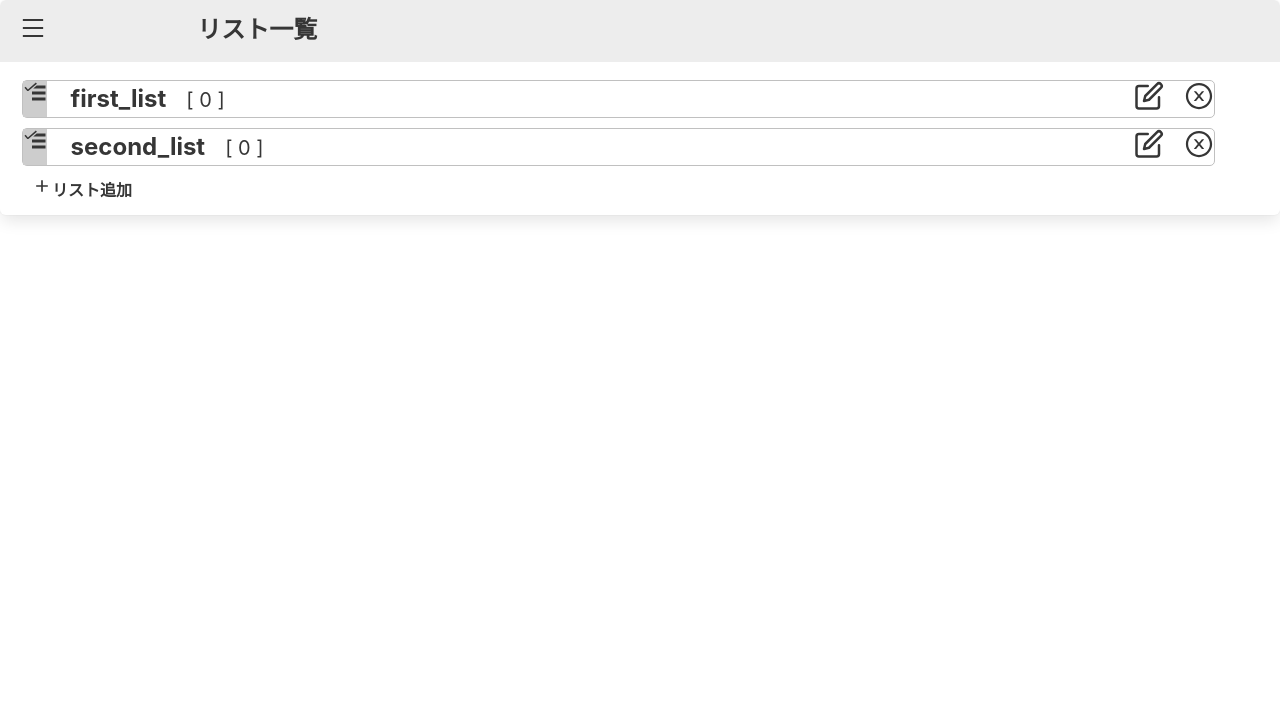
リスト追加処理のテスト › リスト追加処理実行のテスト
This screenshot has width=1280, height=720.
Click the text "リスト追加".
click(92, 190)  # box [52,180,132,200]
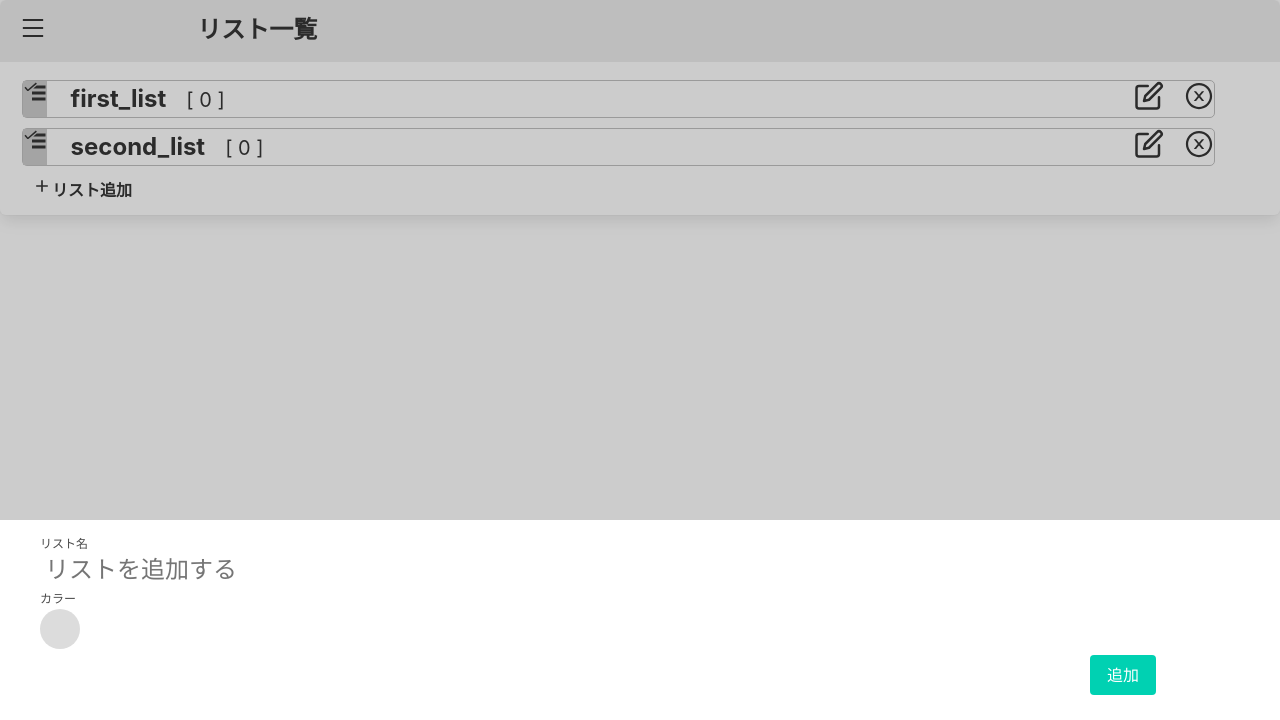
Result: the text "リスト名" is shown at [40,536,88,551]
Type "new_list" into the field labelled "リスト名".
click(536, 570); type("new_list")  # box [40,554,1032,585]
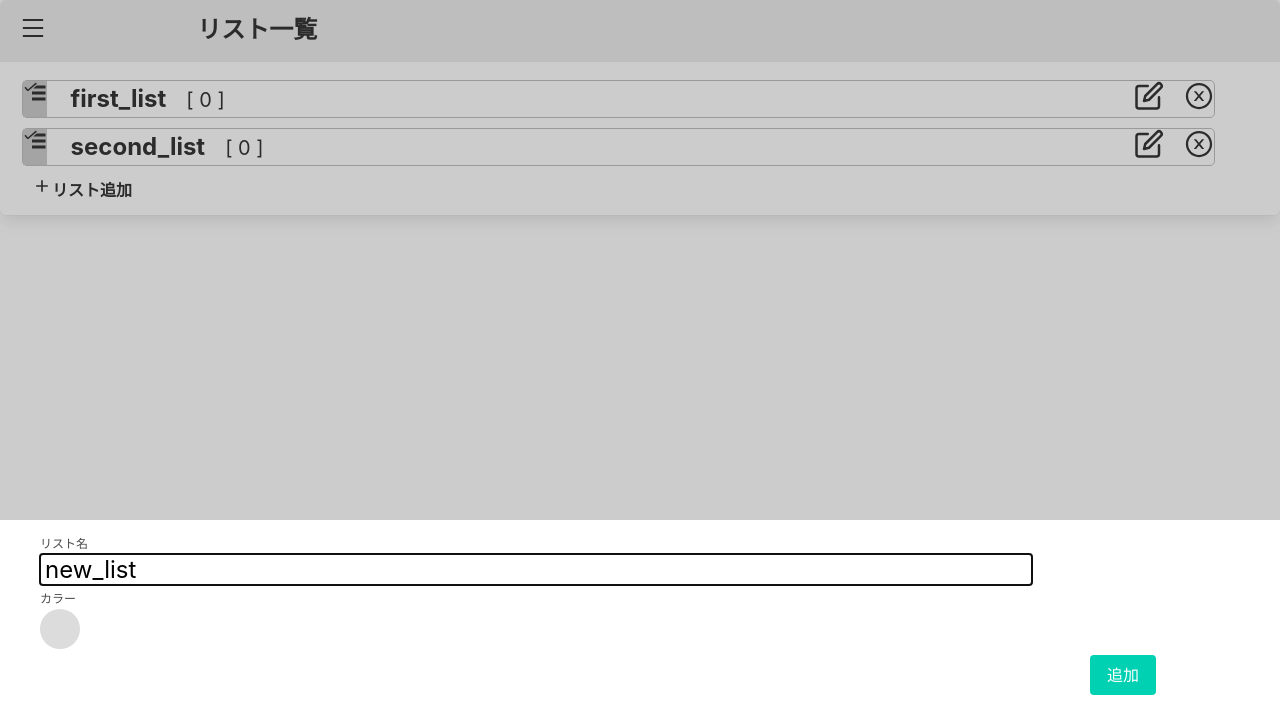
Click the button "追加".
click(1123, 675)  # box [1090,655,1156,695]
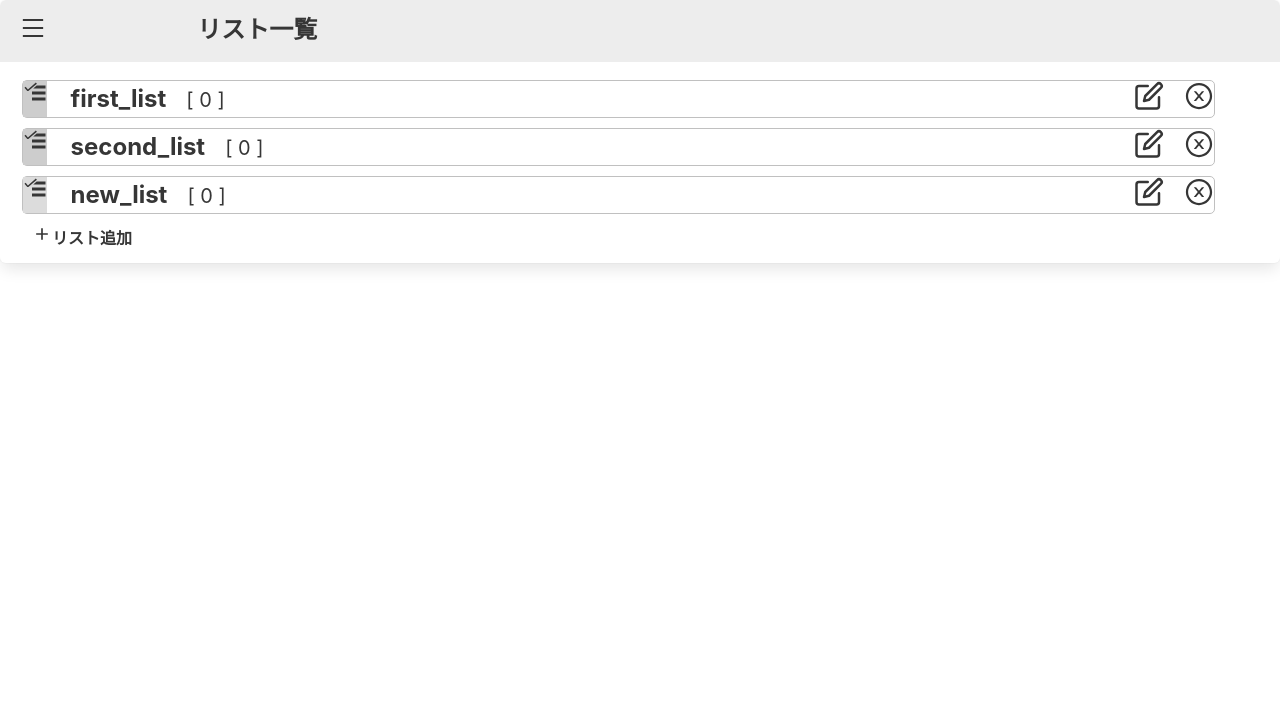
Result: the text "new_list" is shown at [71,180,167,209]
